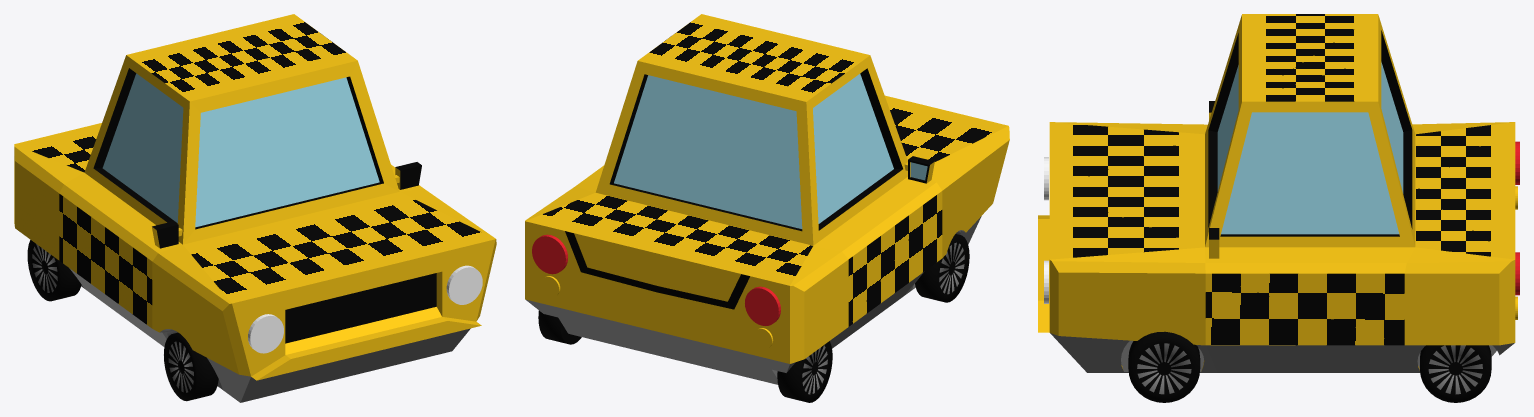
File: taxi.fbx
The picture shows the model from 3 angles, left to right: view 1: azimuth 30°, elevation 25°; view 2: azimuth 150°, elevation 25°; view 3: azimuth 270°, elevation 25°; orthographic projection. The views are drawn at different scales.
Visible parts, largest first — view 1: Cube; view 2: Cube; view 3: Cube.
Part boxes in pixels (left/top/right/bottom): Cube: left=14, top=14, right=496, bottom=402; Cube: left=525, top=14, right=1009, bottom=402; Cube: left=1038, top=14, right=1519, bottom=402.
Bounding box in the file's own units: 195 × 175 × 275.
